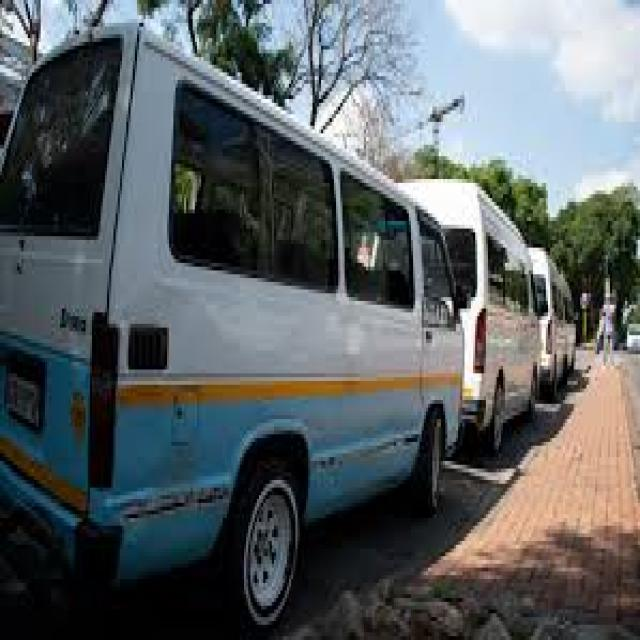MiniBus taxi: (2, 23, 465, 632), (394, 168, 541, 461), (526, 232, 584, 404)
